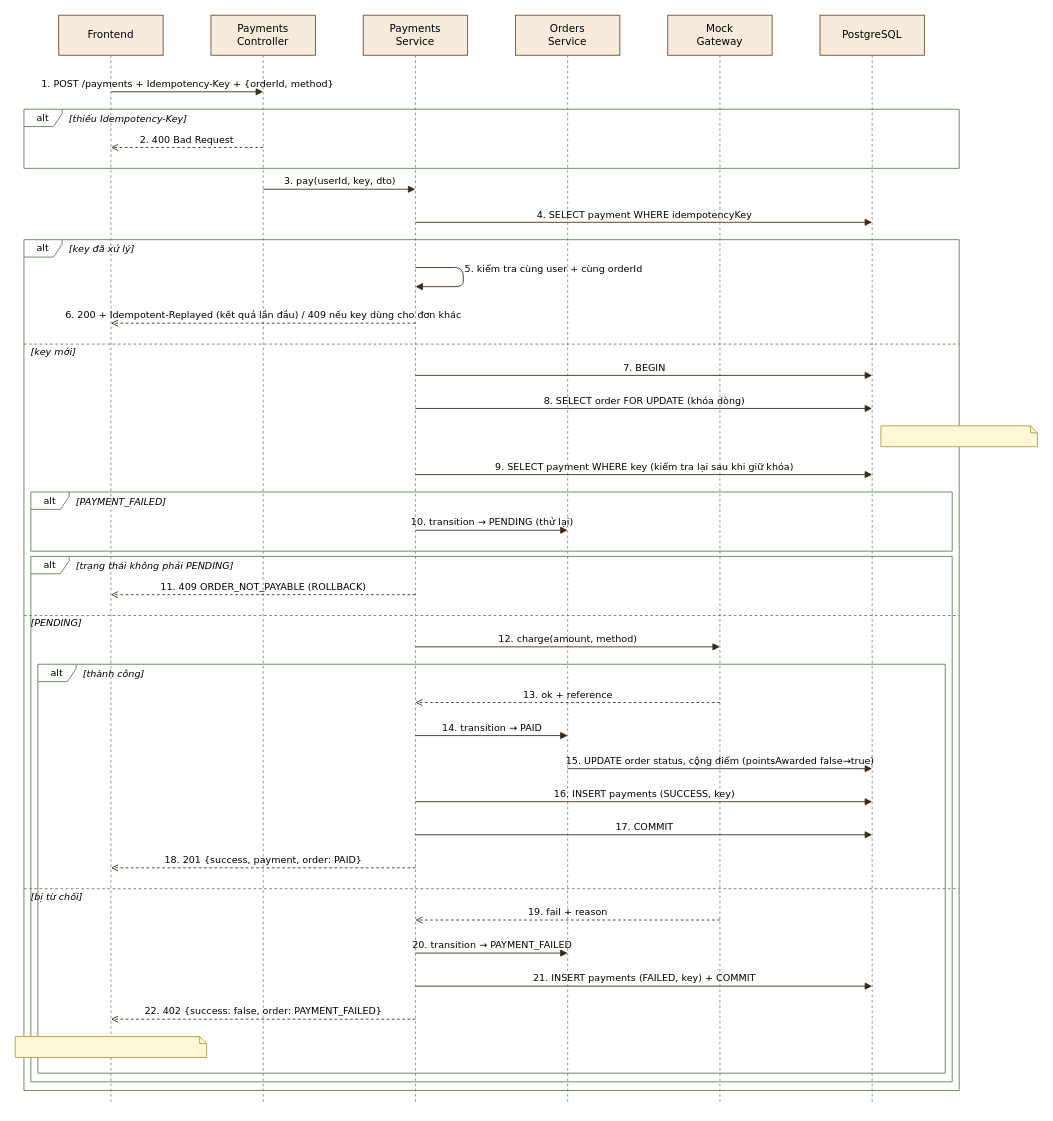
Image size: 1053x1121. Some labels were removed from this diagram. Here are the shapes that lost their labels. From the top down, the centre of each, then its label:
the point at 958,436: Yêu cầu song song cùng đơn phải chờ tại đây
the point at 110,1046: Giữ nguyên giỏ, cho thử lại với key mới
